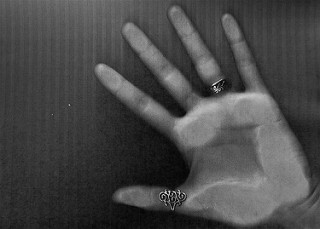palm: (184, 97, 297, 216)
